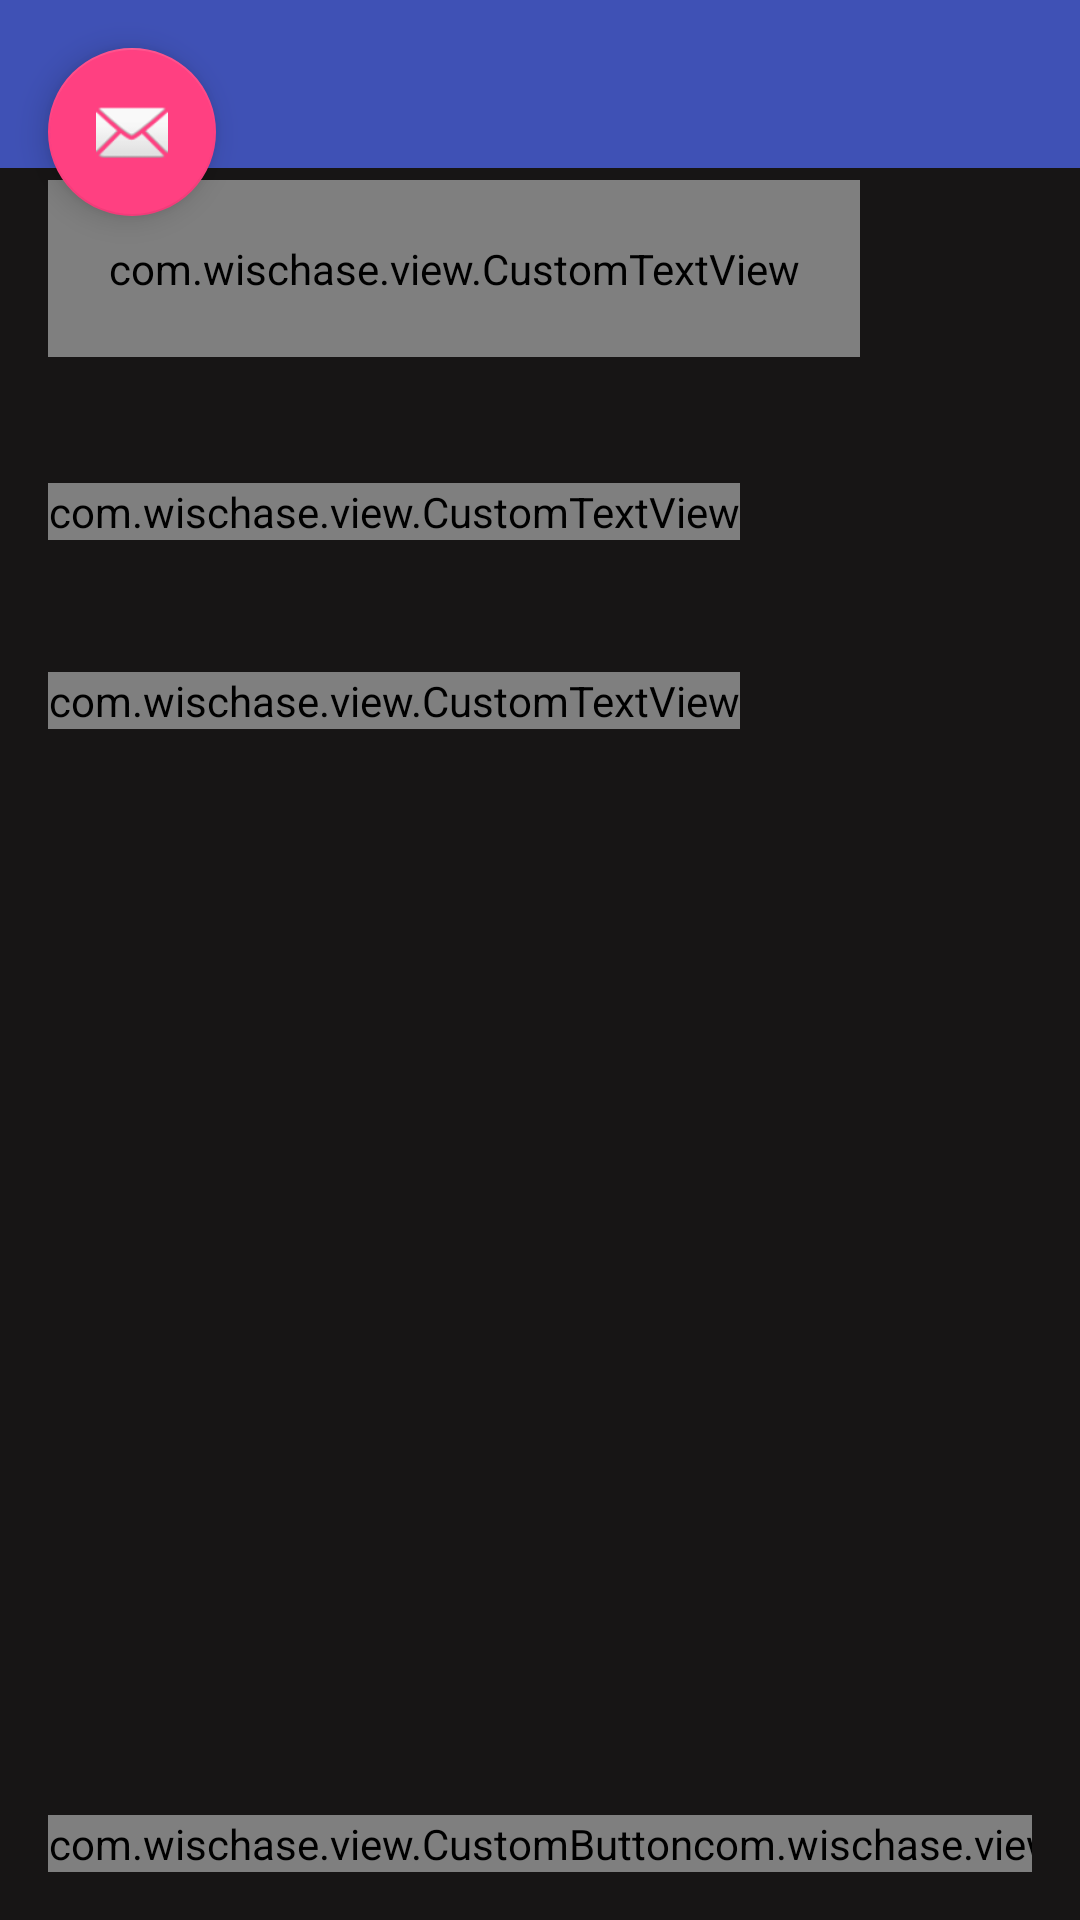

Point at icon controls on the screen. Image size 1080×1920, points as [x,y].
email: [132,132]
